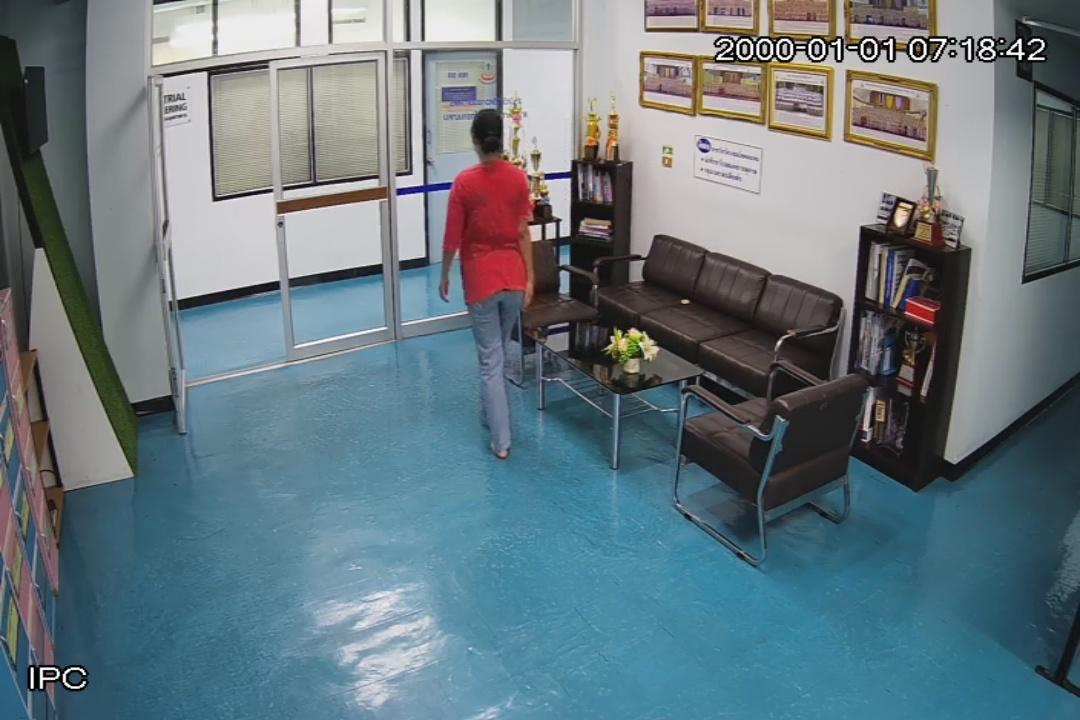normal: (426, 96, 550, 470)
